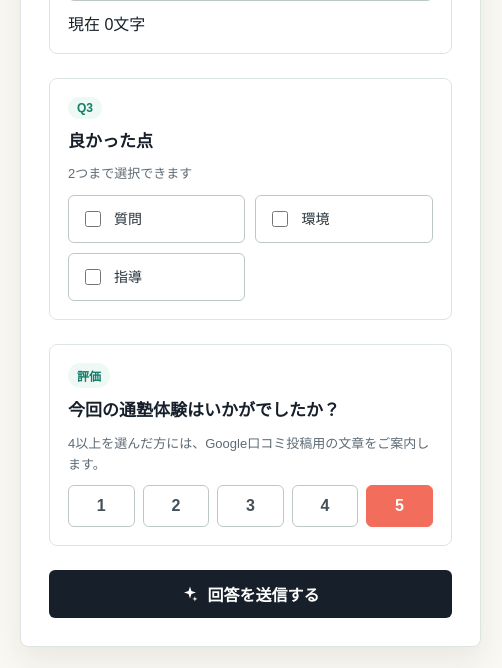
Scenario: public survey submission results › keeps user answers and shows no success when saving rating 2 fails, then allows retry
(page scrolled)
Click the button "2" at x=176, y=506, box [142,485,209,527]
(page scrolled)
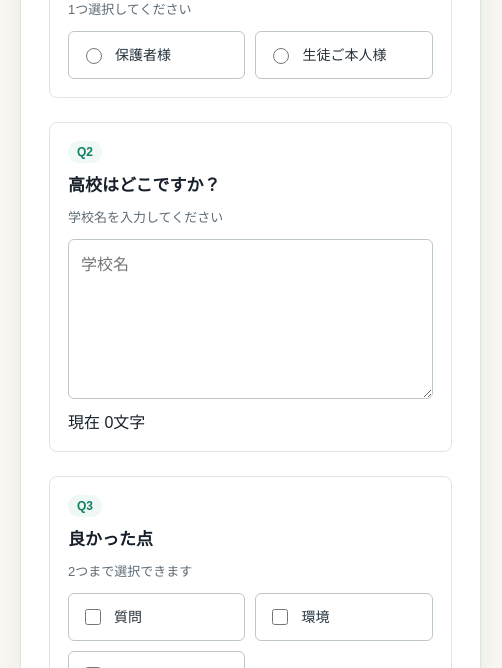
Type "済々黌" into the text box at x=250, y=319, box [68,239,433,399]
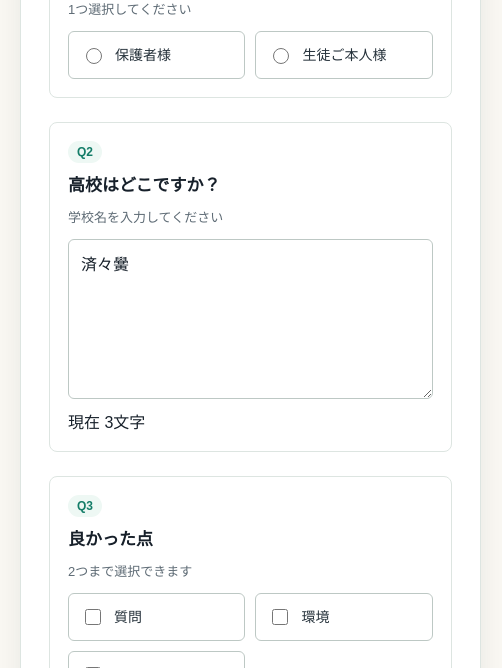
Click the radio button labelled "生徒ご本人様" at x=281, y=56, box [273,48,289,64]
(page scrolled)
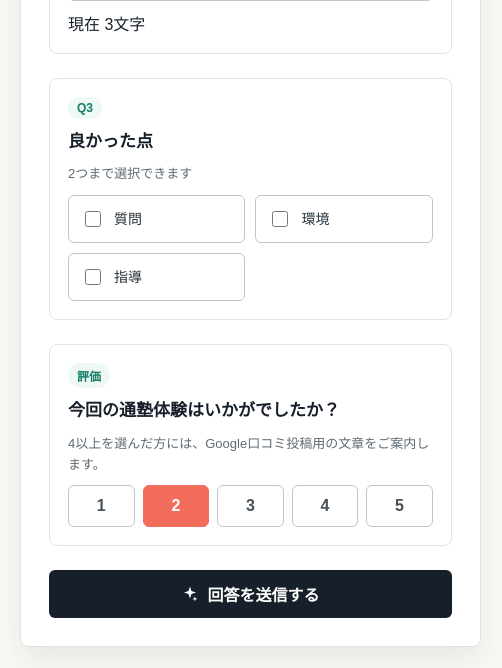
Click the button "回答を送信する" at x=250, y=594, box [49,570,452,618]
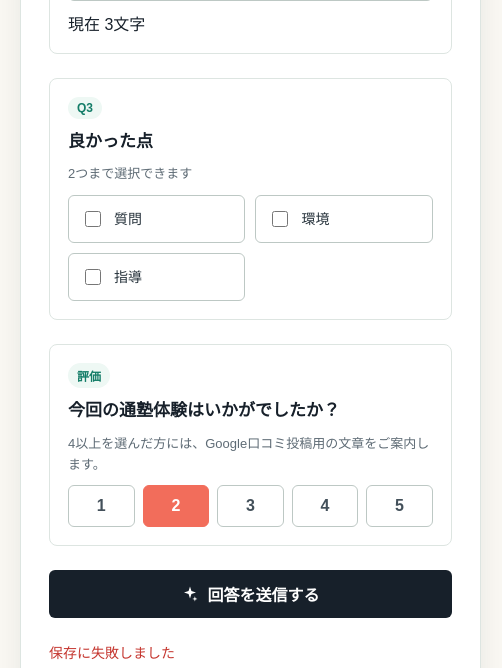
Expected: the text "アンケート回答を保存しました" is not shown
Result: the text "保存に失敗しました" is shown at [49,645,175,661]
Click the button "回答を送信する" at x=250, y=594, box [49,570,452,618]
(page scrolled)
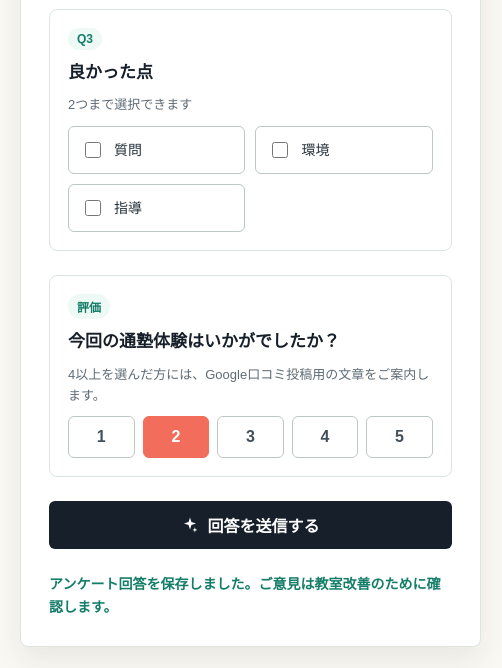
Result: the text "アンケート回答を保存しました。ご意見は教室改善のために確認します。" is shown at [49,573,452,618]
Result: the text "保存に失敗しました" is gone
